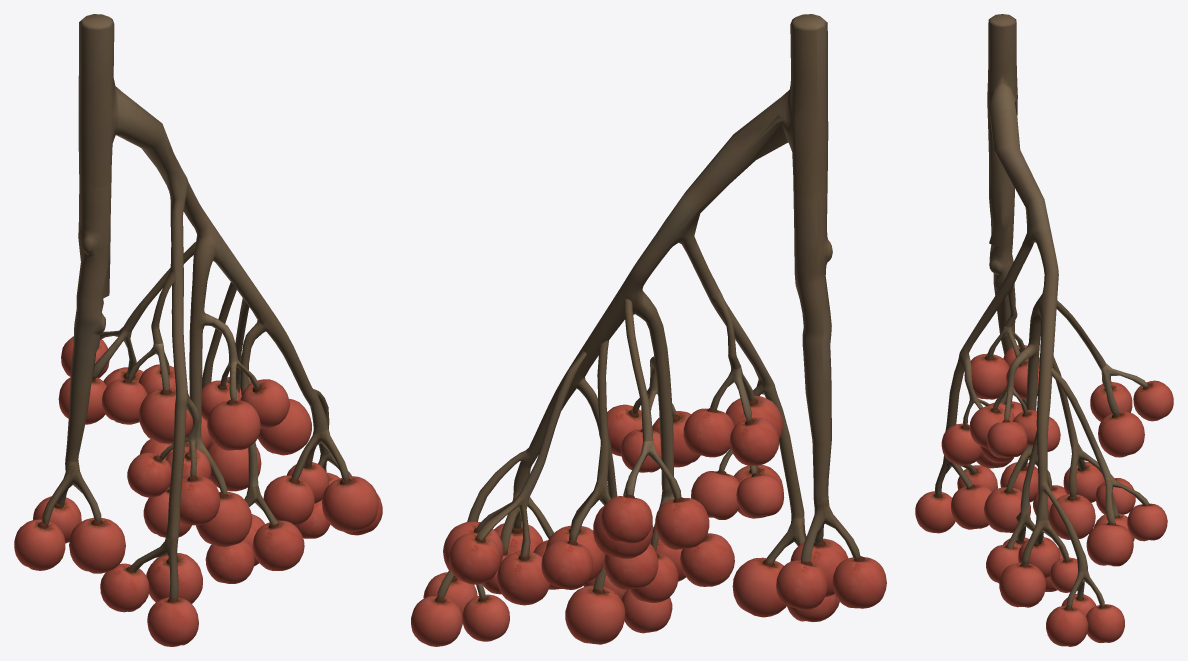
3 views of the same model, side by side, from view 1: azimuth 30°, elevation 25°; view 2: azimuth 150°, elevation 25°; view 3: azimuth 270°, elevation 25° (orthographic). The views are drawn at different scales.
Visible parts, largest first — view 1: polySurface193.002, polySurface150.002; view 2: polySurface193.002, polySurface150.002; view 3: polySurface193.002, polySurface150.002.
Part boxes in pixels (bbox=[...]): polySurface193.002: bbox=[14, 336, 382, 646]; polySurface150.002: bbox=[42, 14, 351, 599]; polySurface193.002: bbox=[411, 395, 886, 646]; polySurface150.002: bbox=[437, 14, 860, 599]; polySurface193.002: bbox=[915, 345, 1173, 646]; polySurface150.002: bbox=[934, 14, 1148, 607].
Bounding box in the file's own units: 0.6502 × 0.9617 × 0.4459.
2 materials, 2 textured.
